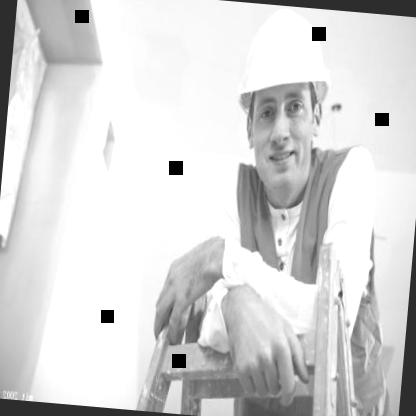helmet: (221, 6, 348, 210)
